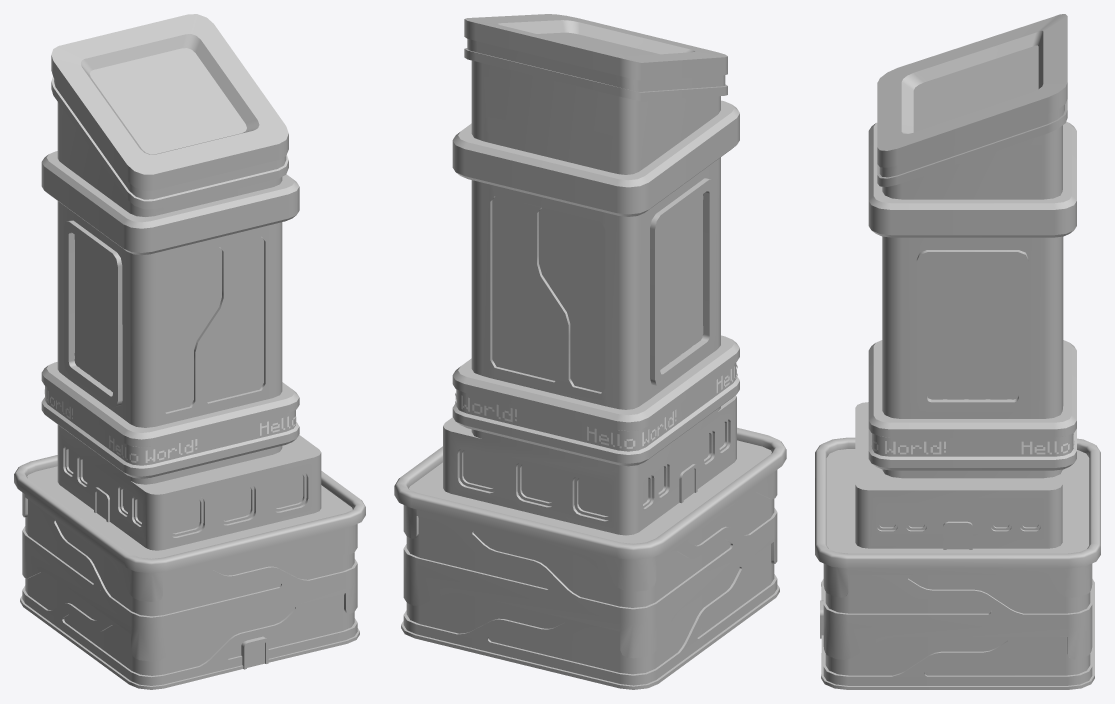
Rendered from Futuristic_Building_TechTower.fbx.
3 renders of one model, left to right at view 1: azimuth 30°, elevation 25°; view 2: azimuth 150°, elevation 25°; view 3: azimuth 270°, elevation 25°, orthographic. The views are drawn at different scales.
Visible parts, largest first — view 1: Futuristic_Building_TechTower; view 2: Futuristic_Building_TechTower; view 3: Futuristic_Building_TechTower.
Boxes of the visible parts, x1,y1,x2,y2 form: Futuristic_Building_TechTower: [14, 14, 365, 689]; Futuristic_Building_TechTower: [394, 14, 786, 689]; Futuristic_Building_TechTower: [815, 14, 1100, 689].
Size of the model in its own units: 1928 by 1928 by 4288.
